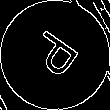P_SE: (24, 25, 86, 85)
